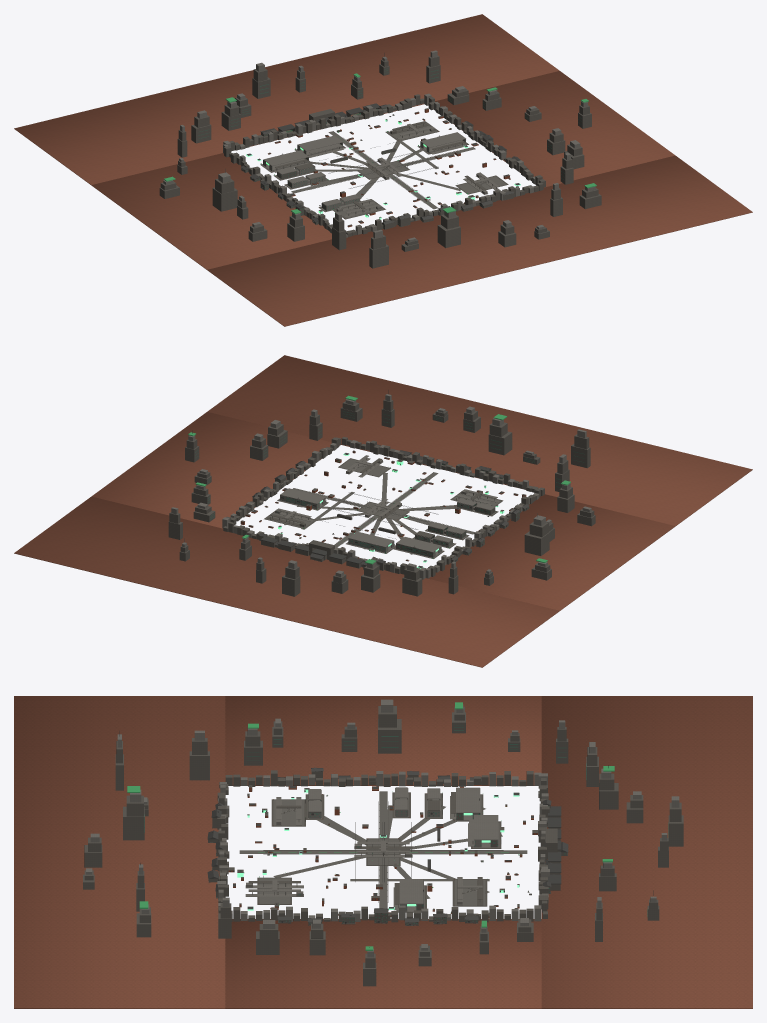
The model's file is haieki-lod0.glb.
3 views of the same model, one above another, from view 1: azimuth 30°, elevation 25°; view 2: azimuth 150°, elevation 25°; view 3: azimuth 270°, elevation 25° (orthographic). The views are drawn at different scales.
Visible parts, largest first — view 1: HB_haieki_LOD0_terrain, HB_haieki_LOD0_wall_alt, HB_haieki_LOD0_wall, HB_haieki_LOD0_road, HB_haieki_LOD0_trim, HB_haieki_LOD0_obstacle; view 2: HB_haieki_LOD0_terrain, HB_haieki_LOD0_wall_alt, HB_haieki_LOD0_wall, HB_haieki_LOD0_road, HB_haieki_LOD0_trim, HB_haieki_LOD0_glass, HB_haieki_LOD0_obstacle; view 3: HB_haieki_LOD0_terrain, HB_haieki_LOD0_wall_alt, HB_haieki_LOD0_wall, HB_haieki_LOD0_road, HB_haieki_LOD0_trim, HB_haieki_LOD0_obstacle, HB_haieki_LOD0_accent, HB_haieki_LOD0_glass.
Part boxes in pixels (x1,y1,x2,y2): HB_haieki_LOD0_terrain: (14, 14, 752, 326); HB_haieki_LOD0_wall_alt: (159, 55, 601, 268); HB_haieki_LOD0_wall: (163, 50, 595, 241); HB_haieki_LOD0_road: (262, 115, 508, 219); HB_haieki_LOD0_trim: (225, 53, 528, 225); HB_haieki_LOD0_obstacle: (268, 109, 518, 227); HB_haieki_LOD0_terrain: (14, 355, 752, 667); HB_haieki_LOD0_wall_alt: (168, 399, 595, 596); HB_haieki_LOD0_wall: (171, 394, 591, 579); HB_haieki_LOD0_road: (264, 459, 502, 561); HB_haieki_LOD0_trim: (184, 390, 537, 568); HB_haieki_LOD0_glass: (195, 411, 584, 561); HB_haieki_LOD0_obstacle: (240, 451, 526, 561); HB_haieki_LOD0_terrain: (14, 696, 752, 1008); HB_haieki_LOD0_wall_alt: (83, 706, 683, 986); HB_haieki_LOD0_wall: (86, 699, 679, 957); HB_haieki_LOD0_road: (239, 791, 531, 913); HB_haieki_LOD0_trim: (119, 731, 653, 947); HB_haieki_LOD0_obstacle: (228, 786, 537, 918); HB_haieki_LOD0_accent: (127, 702, 614, 950); HB_haieki_LOD0_glass: (144, 725, 668, 924).
Bounding box in the file's own units: 734 × 60.49 × 734.
10 materials, 8 textured.
